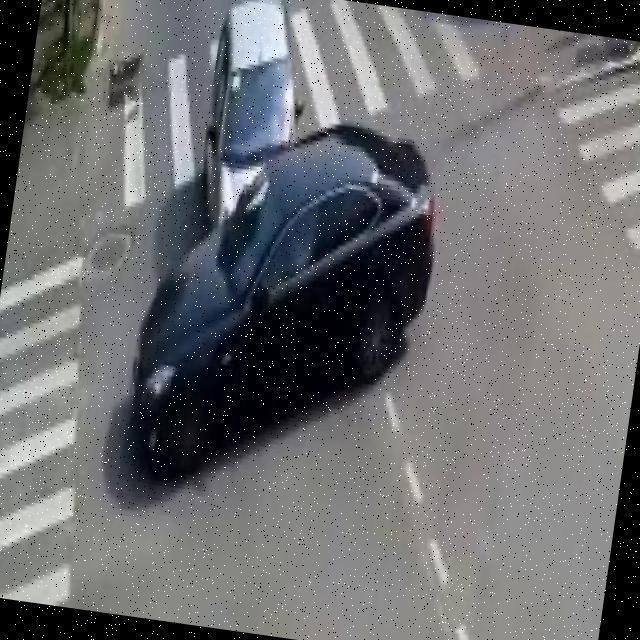accident: (98, 0, 469, 515)
